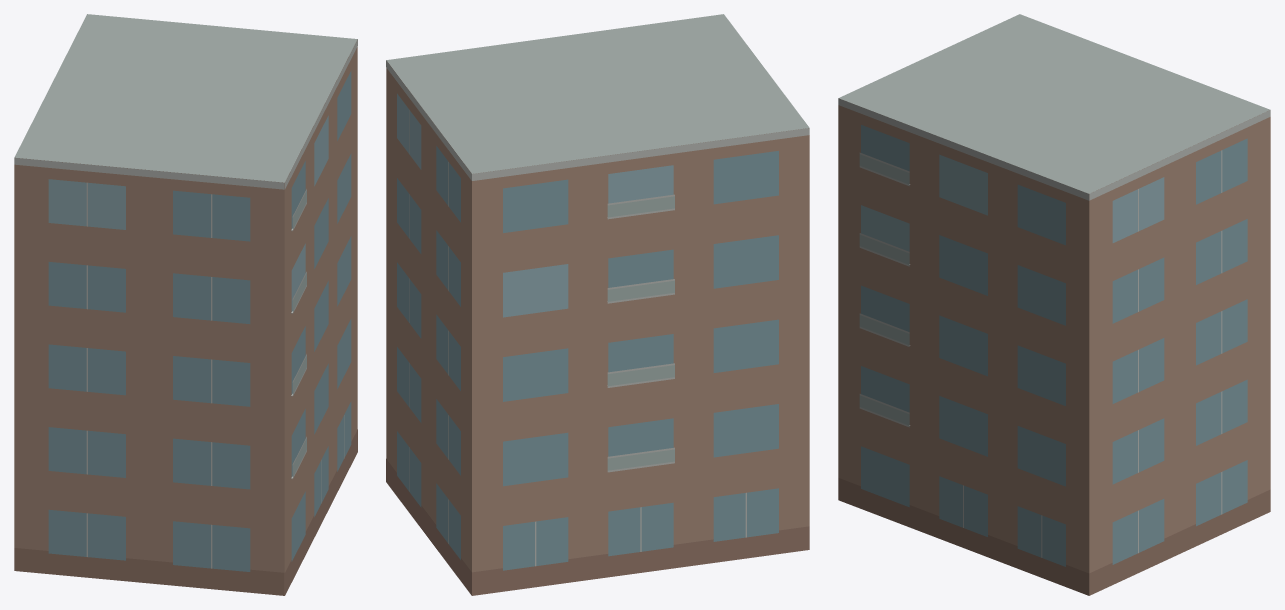
The model's file is survey-upis-32692832.glb.
The picture shows the model from 3 angles, left to right: view 1: azimuth 30°, elevation 25°; view 2: azimuth 150°, elevation 25°; view 3: azimuth 270°, elevation 25°; orthographic projection. The views are drawn at different scales.
Visible parts, largest first — view 1: survey-upis-32692832.tmp; view 2: survey-upis-32692832.tmp; view 3: survey-upis-32692832.tmp.
Part boxes in pixels (x1,y1,x2,y2): survey-upis-32692832.tmp: (14, 14, 357, 595); survey-upis-32692832.tmp: (386, 14, 809, 595); survey-upis-32692832.tmp: (838, 14, 1270, 595).
Bounding box in the file's own units: 13.73 × 14.3 × 13.94.
